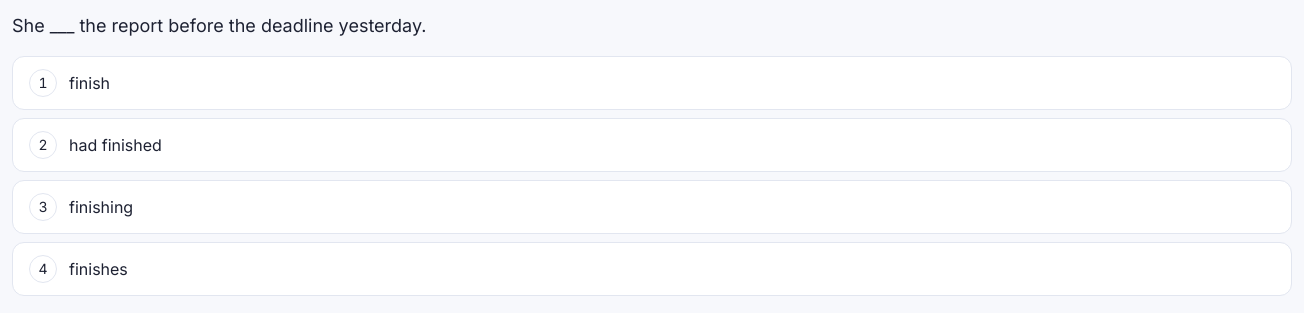
Test case: ChoiceCard › marks the chosen option with a non-colour indicator, not any other option
What coordinates should you click on to do the following:
click the radio button labelled "2 had finished"
I would click on:
 (115, 145)
Its box is x1=12 y1=118 x2=1292 y2=172.
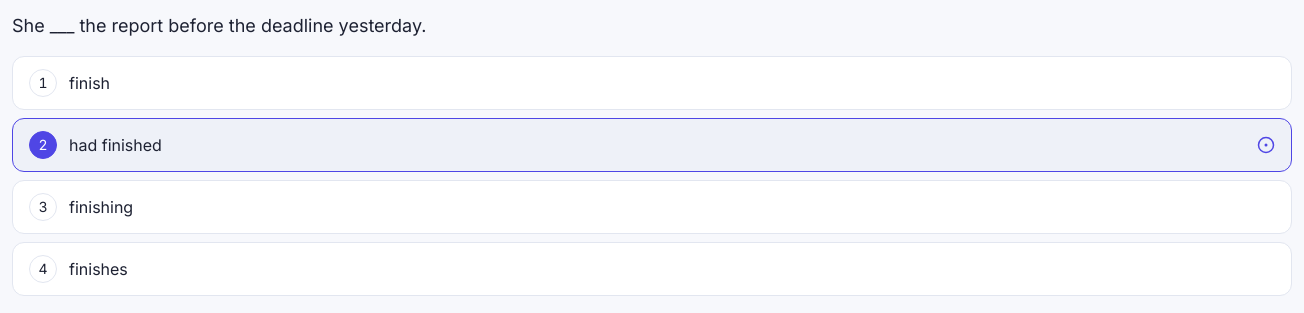
Expected: the icon with test id "selected-mark" is shown, x1=1257 y1=136 x2=1275 y2=154
